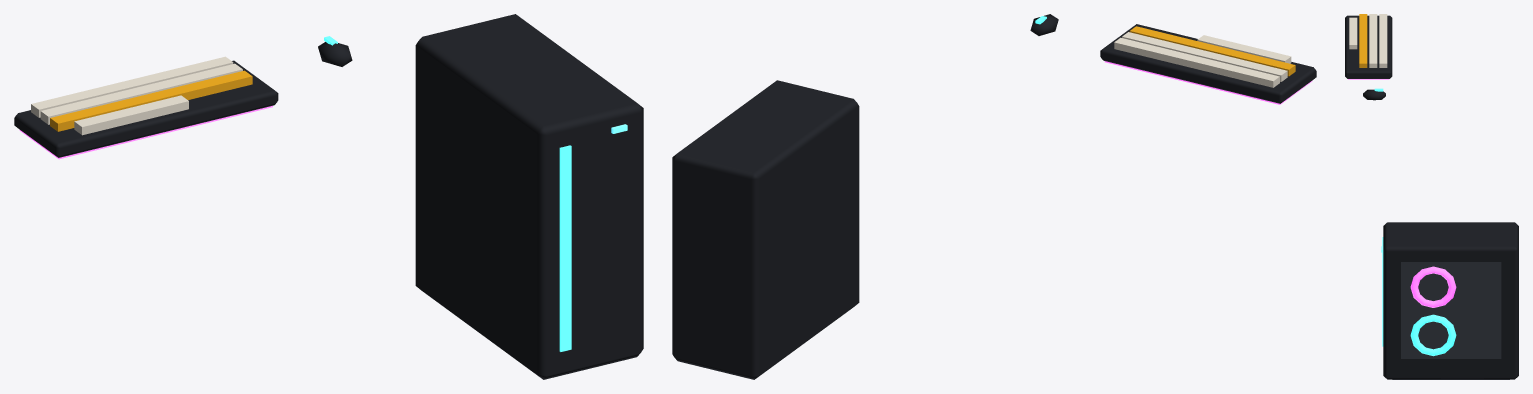
File: station_processing_ausstattung_2_3.glb
The picture shows the model from 3 angles, left to right: view 1: azimuth 30°, elevation 25°; view 2: azimuth 150°, elevation 25°; view 3: azimuth 270°, elevation 25°; orthographic projection. The views are drawn at different scales.
Parts seen in each view (by area): view 1: station_processing_ausstattung_2_3; view 2: station_processing_ausstattung_2_3; view 3: station_processing_ausstattung_2_3.
Boxes of the visible parts, x1,y1,x2,y2 form: station_processing_ausstattung_2_3: [14, 14, 643, 379]; station_processing_ausstattung_2_3: [672, 14, 1316, 379]; station_processing_ausstattung_2_3: [1345, 14, 1518, 379].
Bounding box in the file's own units: 1.31 × 0.792 × 0.59.
